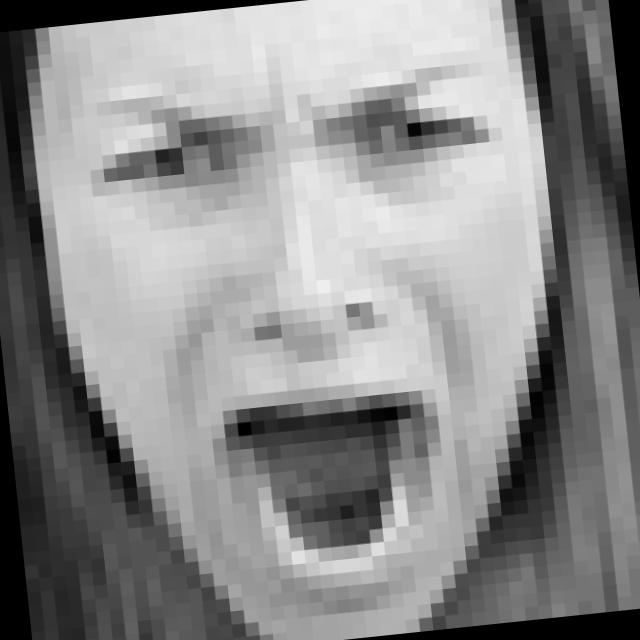angry: (90, 53, 548, 622)
